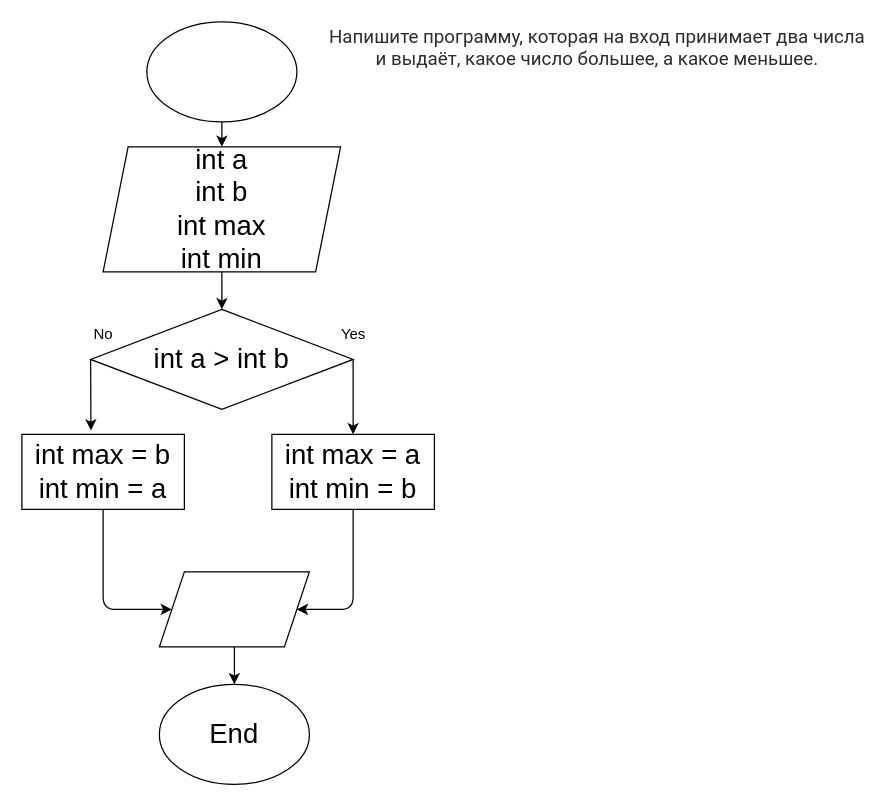
The diagram is 894 pixels wide and 806 high, and some of its shapes have lost their labels. Here are the shapes that lost their labels. From the top down, the centre of each, then its label:
(221,71): Start
(233,609): int max int min
